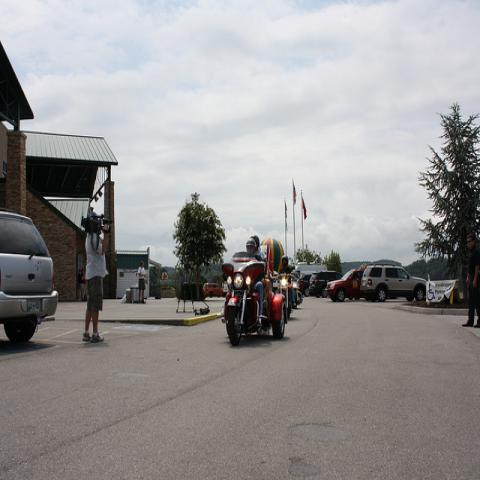car: (0, 213, 59, 344), (360, 264, 427, 302), (325, 263, 376, 303), (308, 270, 342, 298), (297, 274, 311, 297), (203, 283, 224, 298)
motorcycle: (222, 263, 287, 347), (274, 274, 295, 318), (291, 274, 304, 308)
